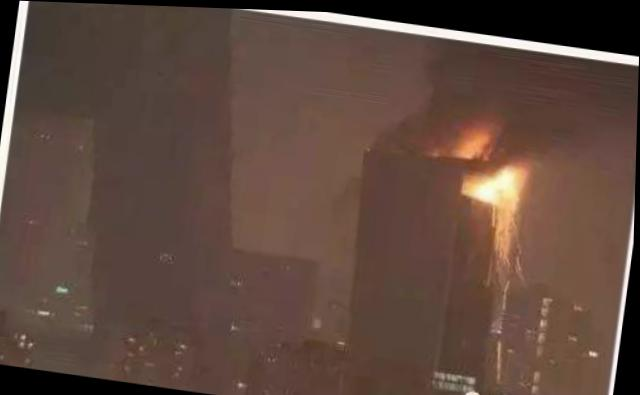fire: (456, 146, 532, 220)
